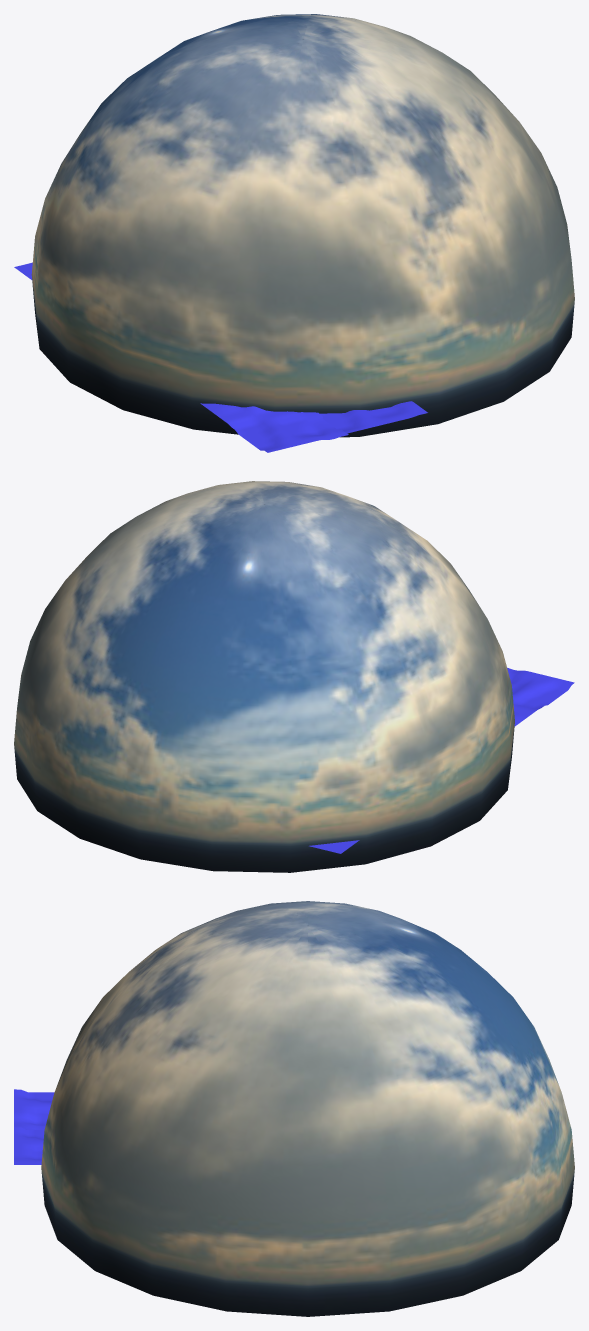
File: Grua_correccion_2.fbx
3 renders of one model, top to bottom at view 1: azimuth 30°, elevation 25°; view 2: azimuth 150°, elevation 25°; view 3: azimuth 270°, elevation 25°, orthographic. The views are drawn at different scales.
Visible parts, largest first — view 1: Domo, Agua; view 2: Domo, Agua; view 3: Domo, Agua.
Boxes of the visible parts, left/top/right/bottom form: Domo: left=31, top=14, right=574, bottom=437; Agua: left=14, top=262, right=427, bottom=452; Domo: left=14, top=481, right=514, bottom=872; Agua: left=309, top=667, right=574, bottom=853; Domo: left=41, top=901, right=574, bottom=1316; Agua: left=14, top=1089, right=54, bottom=1164.
Bounding box in the file's own units: 35.68 × 20.63 × 37.5.
Materials: 13 (2 with a texture image).
